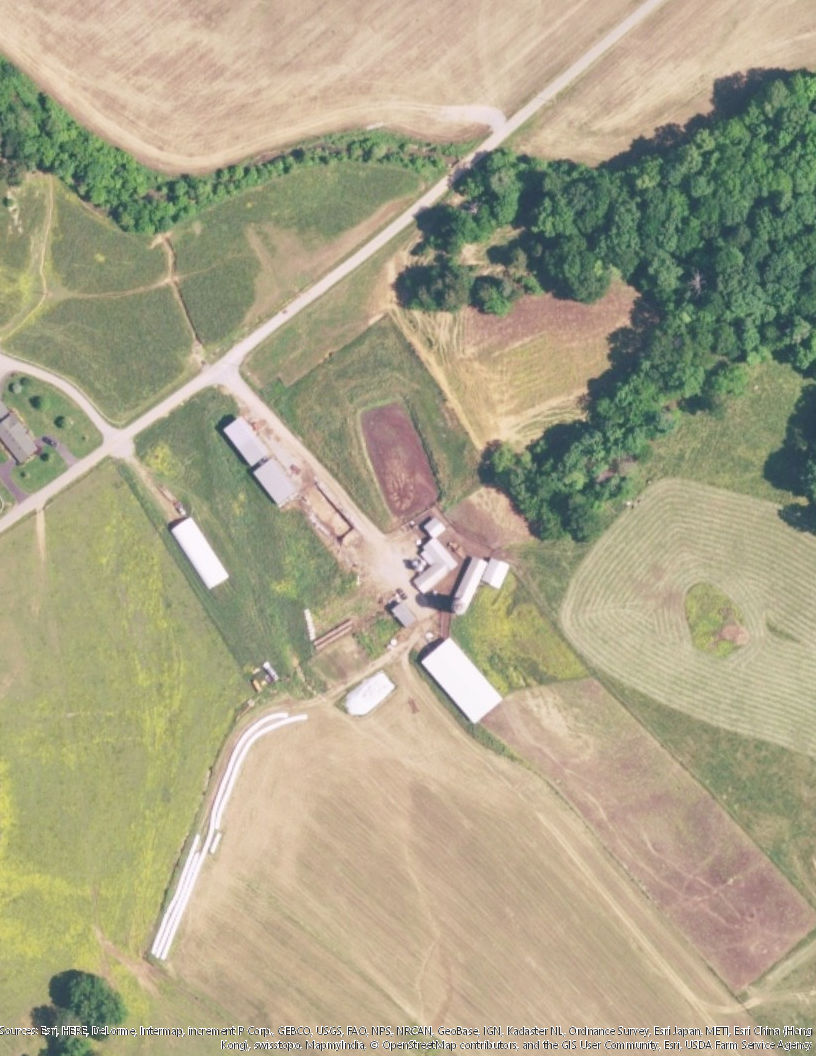cafo: (418, 632, 509, 727), (165, 511, 238, 596), (409, 508, 458, 594), (448, 546, 508, 616), (243, 448, 313, 507), (219, 411, 274, 466)
